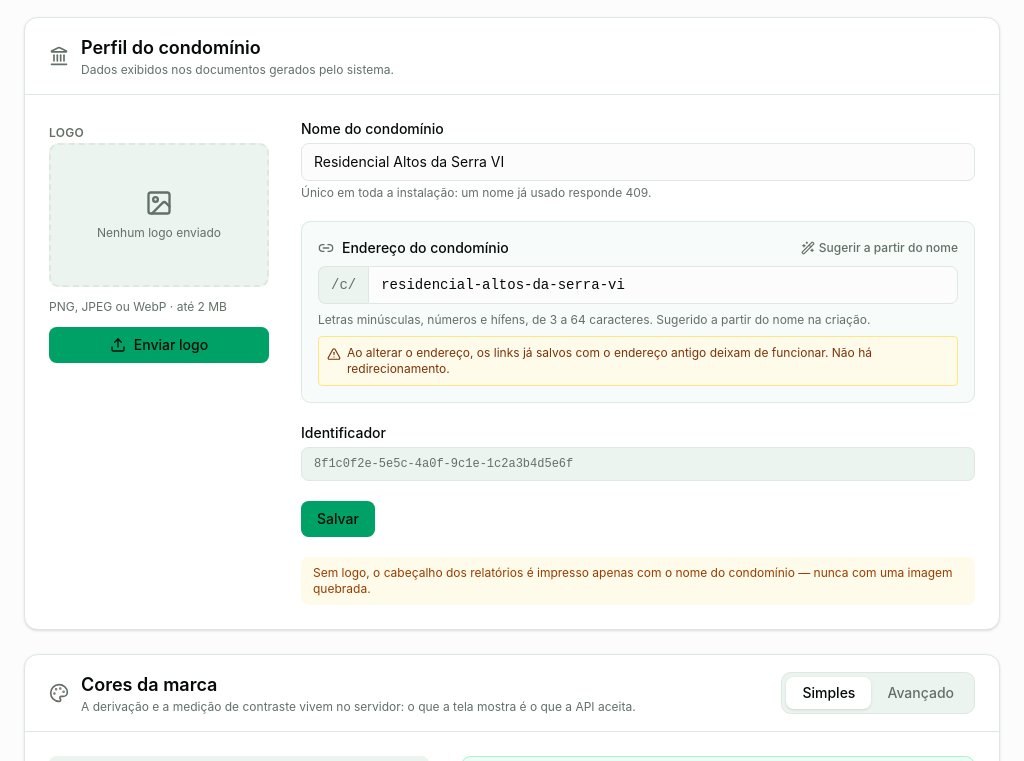
Test: the brand-colour section › offers the thirteen authored inputs and the derive-dark checkbox in advanced mode
Click the button "Avançado" at (921, 693), box [871,677,970,709]
(page scrolled)
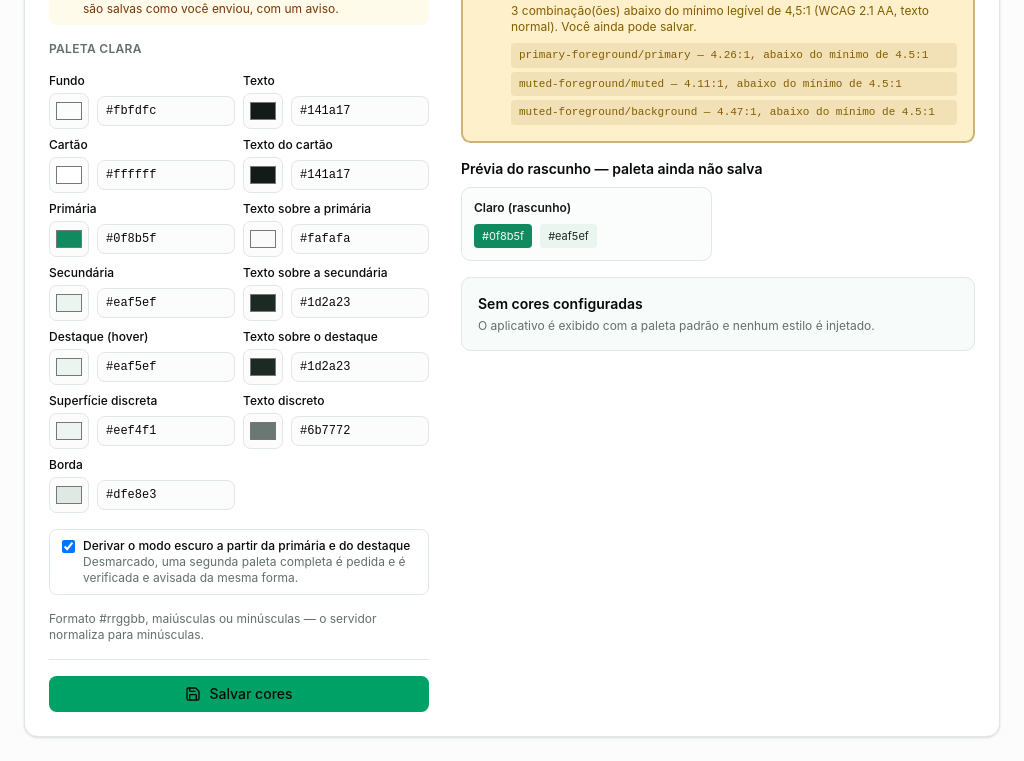
Now the checkbox labelled "Derivar o modo escuro a partir da primária e do destaque" is checked, box [62,540,75,553]
